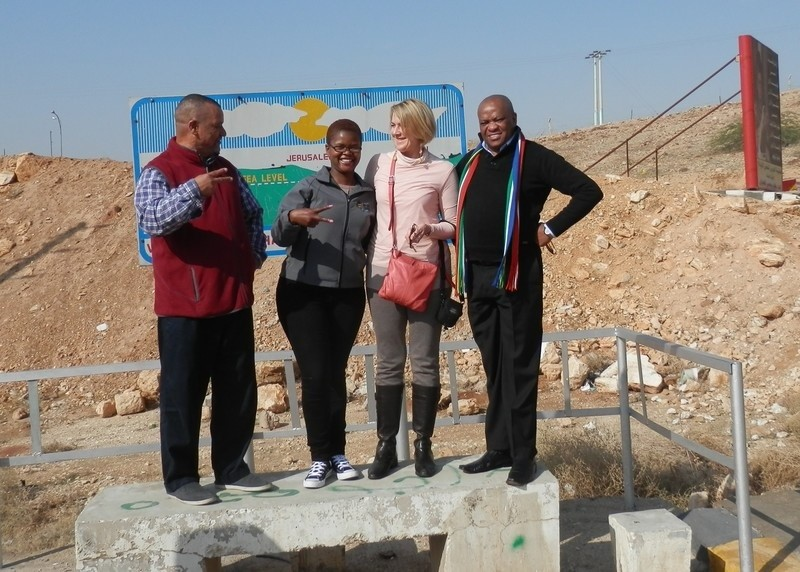face_no_mask: (175, 92, 227, 158), (321, 122, 366, 177), (390, 99, 435, 152), (477, 95, 518, 148)
